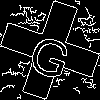G: (25, 25, 77, 82)
